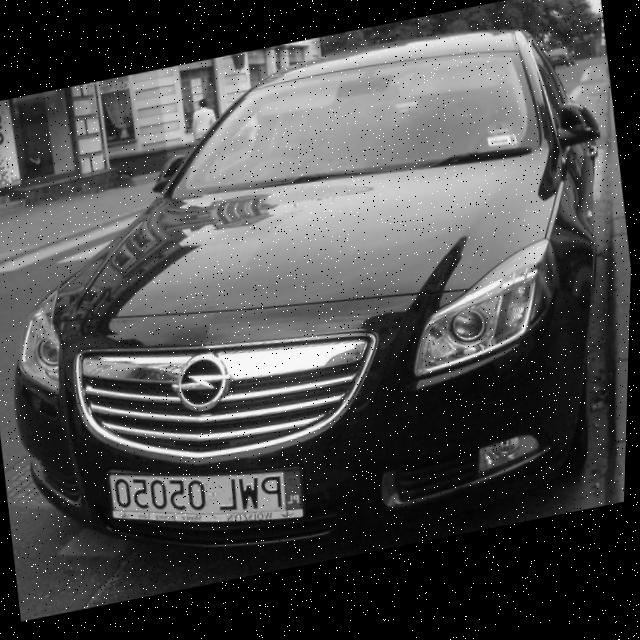license-plates: (109, 470, 302, 524)
